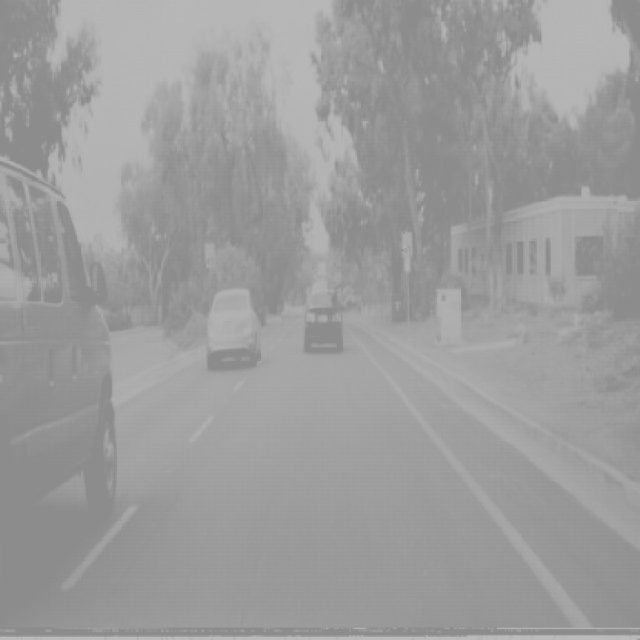speedLimit45: (204, 241, 216, 269), (402, 230, 412, 258)
